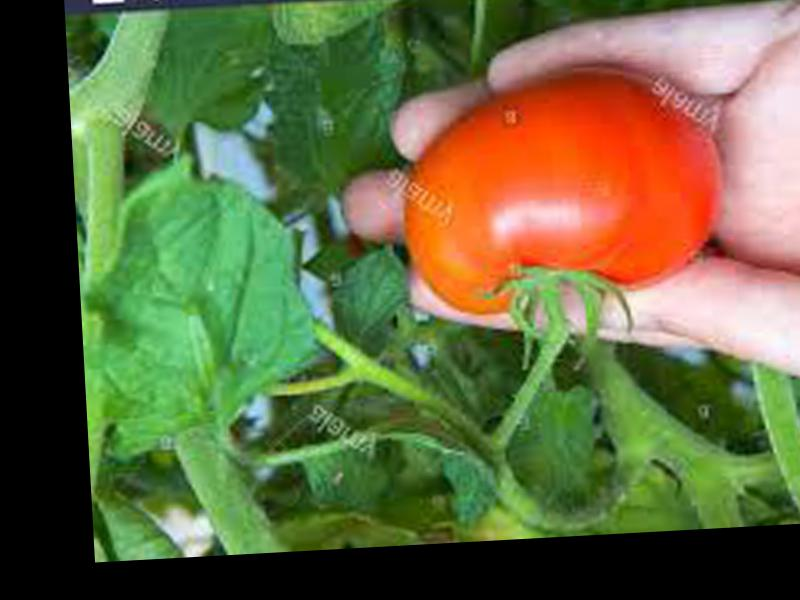Tomato: (397, 68, 730, 318)
